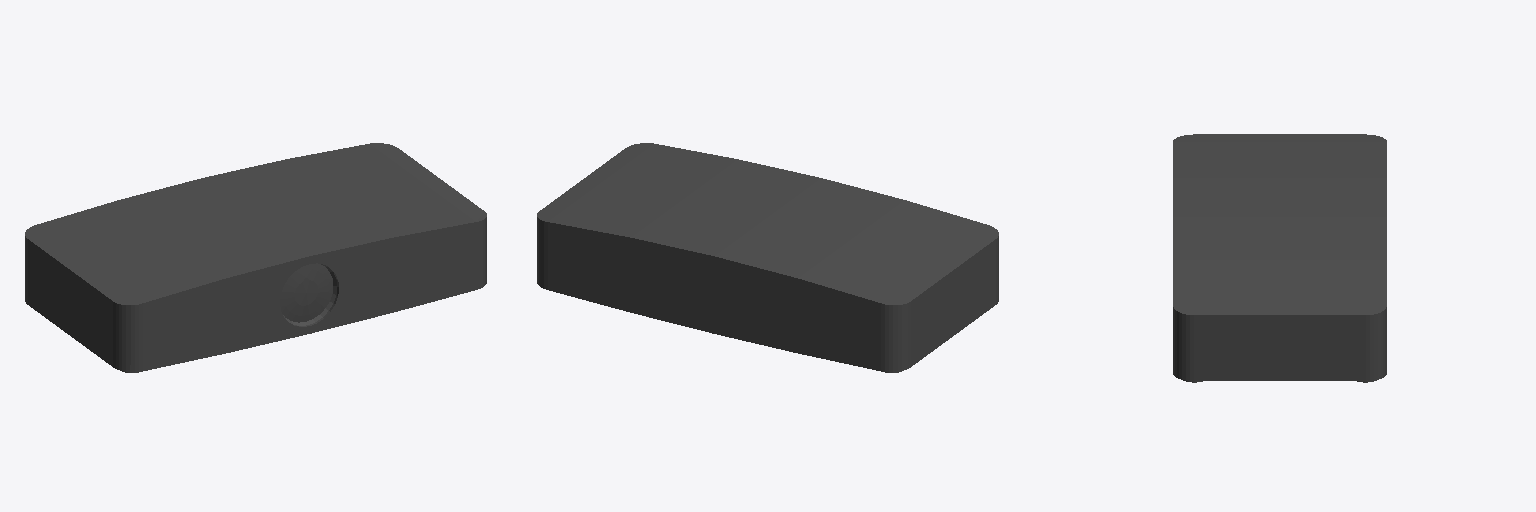
The model's file is PngProjectorEntityMesh.obj.
The picture shows the model from 3 angles: view 1: azimuth 30°, elevation 25°; view 2: azimuth 150°, elevation 25°; view 3: azimuth 270°, elevation 25°; orthographic projection.
Visible parts, largest first — view 1: Body2; view 2: Body2; view 3: Body2.
Part boxes in pixels (x1,y1,x2,y2): Body2: (25, 143, 486, 372); Body2: (537, 143, 998, 372); Body2: (1173, 134, 1386, 382).
Size of the model in its own units: 2.15 by 0.4301 by 1.08.